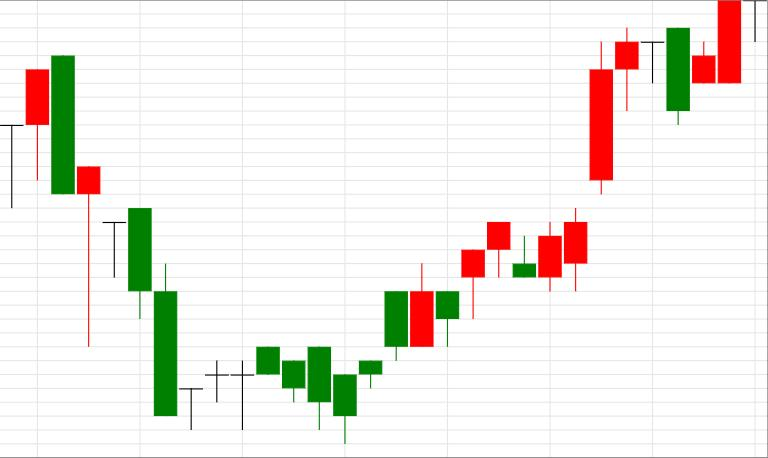hanging_man_fall: (513, 26, 639, 292), (334, 250, 485, 445)
